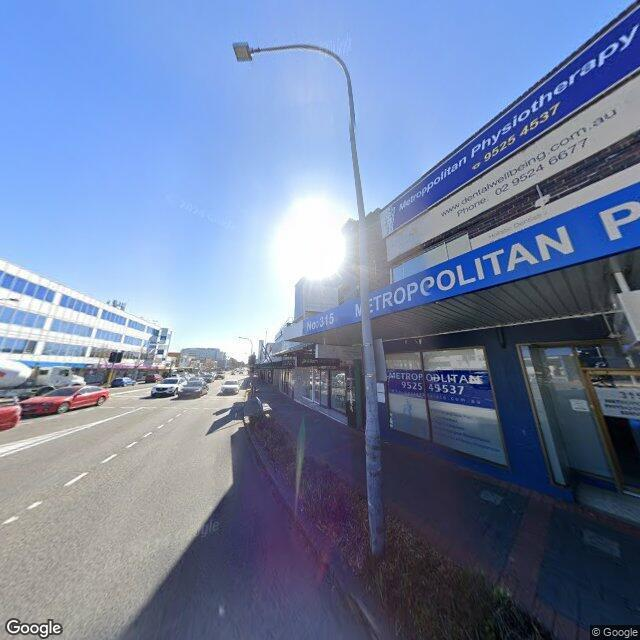steel-pole: (351, 140, 387, 558), (251, 344, 252, 357)
streetlight: (234, 40, 357, 140), (237, 336, 253, 344)
traffic-light: (108, 351, 123, 363)
